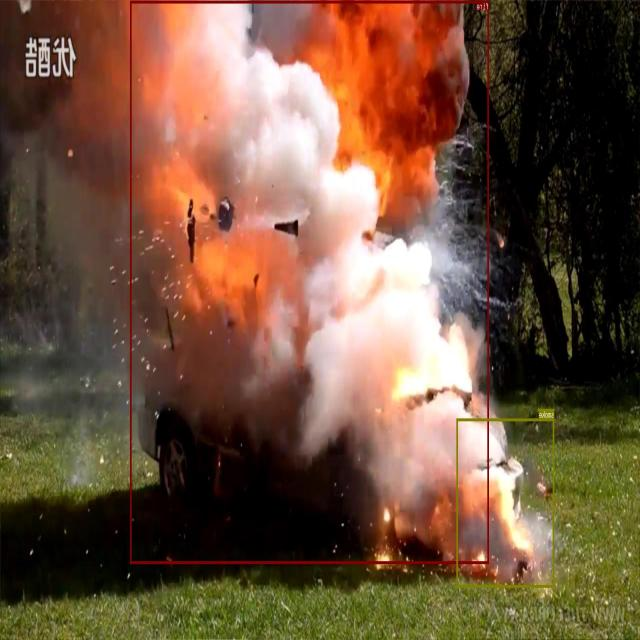fire: (130, 1, 490, 564)
smoke: (456, 418, 554, 587)
